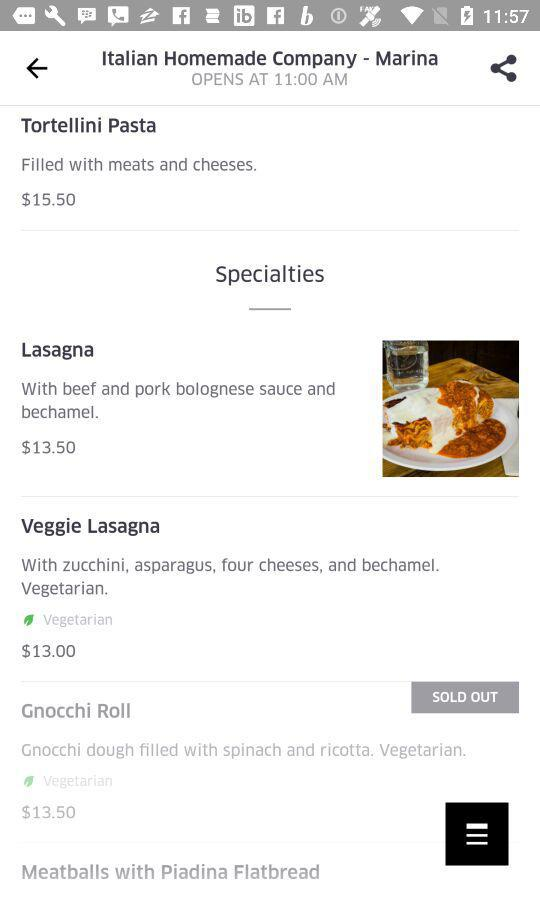Icon: (444, 801, 510, 867), (489, 56, 517, 84), (26, 58, 49, 81)
Image: (382, 340, 519, 477)
Text: (22, 558, 440, 598), (22, 382, 337, 423), (22, 742, 466, 760), (103, 50, 439, 70), (22, 863, 320, 880), (22, 158, 257, 173), (22, 517, 160, 537), (216, 264, 325, 287), (21, 117, 157, 134), (193, 73, 348, 87), (22, 702, 132, 719), (22, 340, 94, 361), (23, 613, 93, 628), (22, 776, 92, 790), (22, 439, 76, 457), (22, 643, 77, 659), (22, 192, 77, 208), (22, 804, 76, 819)
TextButton: (411, 681, 519, 714)
Toolbar: (2, 32, 540, 107)
UpperTaskBar: (1, 1, 540, 33)
